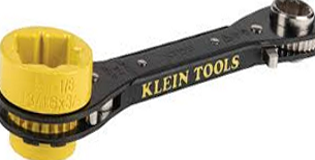wrench: (2, 1, 315, 153)
